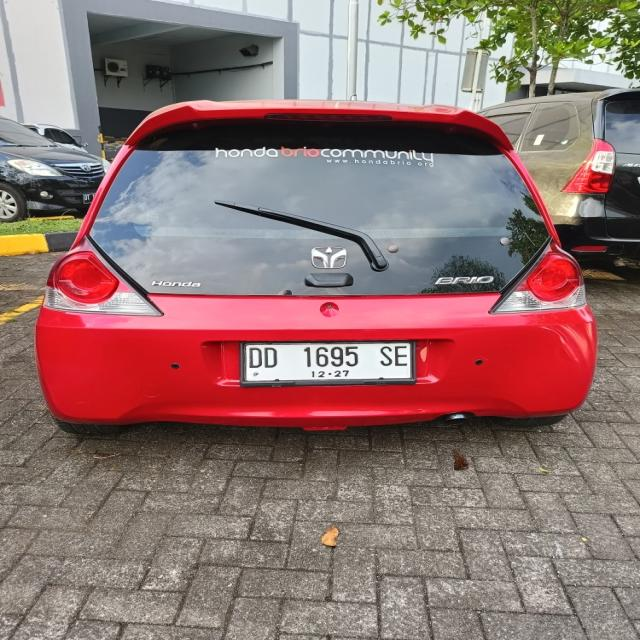plates: (241, 339, 427, 378)
